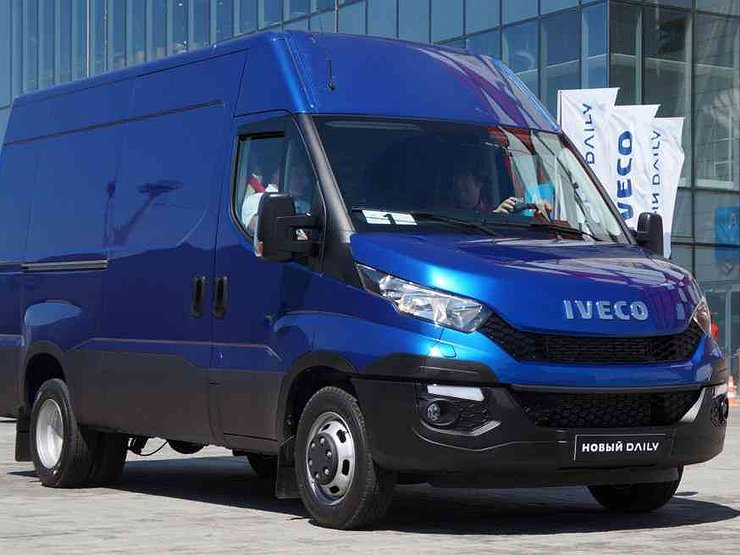van: (9, 27, 728, 527)
